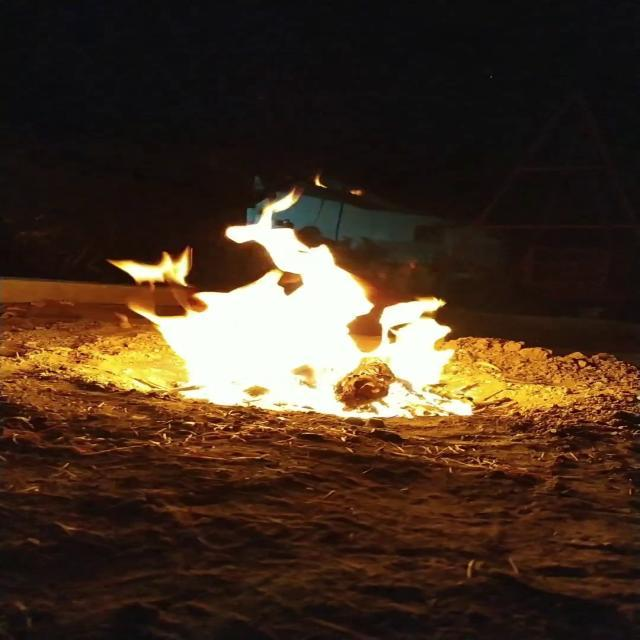Fire: (97, 165, 480, 418)
